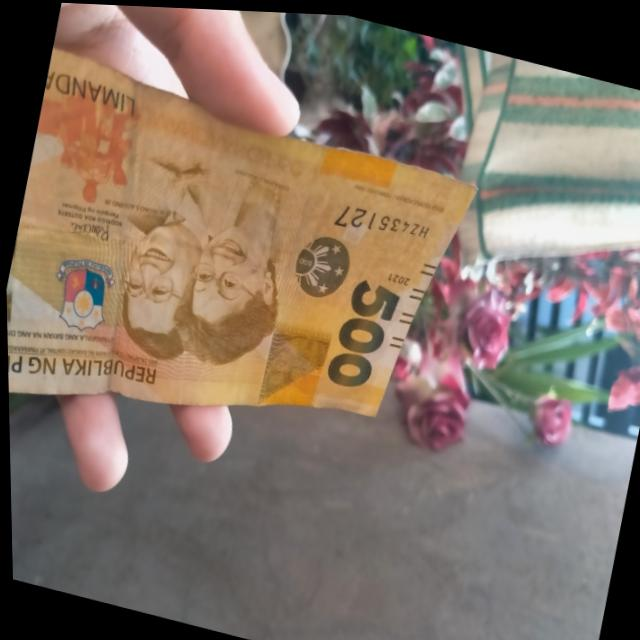concealed_value: (248, 306, 337, 418)
optically_variable_device: (280, 210, 364, 315)
serial_number: (325, 187, 438, 250)
value: (313, 260, 405, 403)
